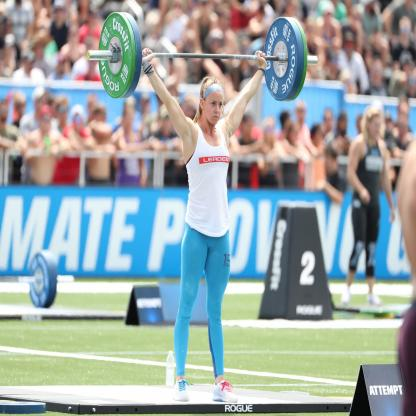barbell: (99, 13, 134, 100)
